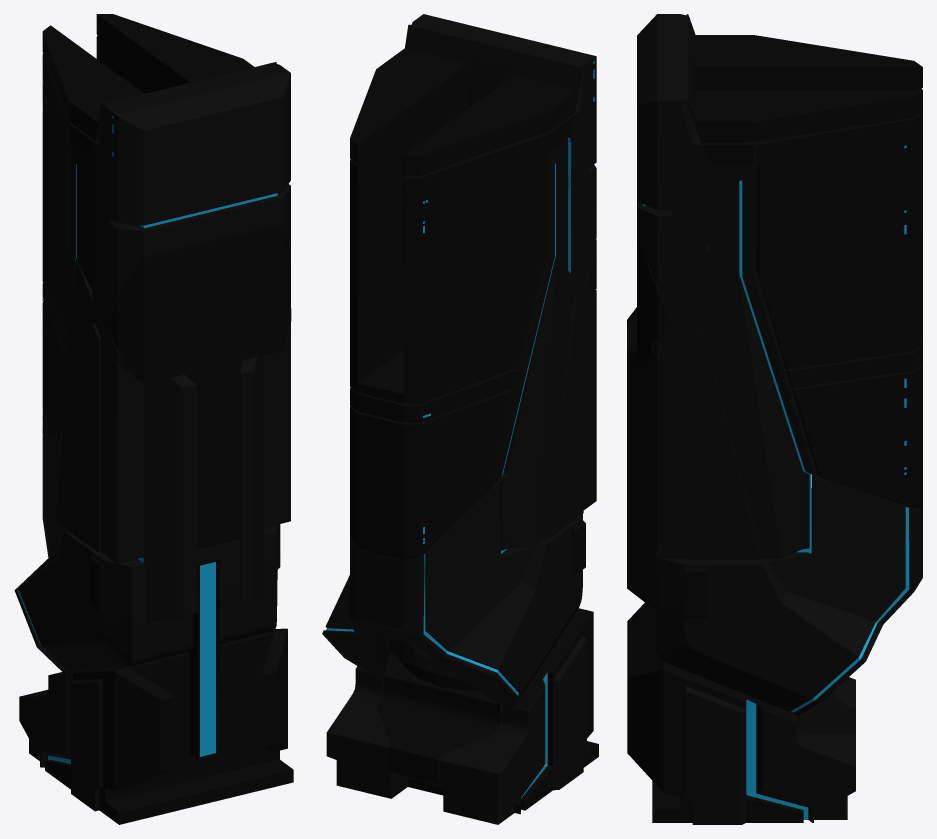
The model's file is building2.obj.
3 views of the same model, side by side, from view 1: azimuth 30°, elevation 25°; view 2: azimuth 150°, elevation 25°; view 3: azimuth 270°, elevation 25° (orthographic). The views are drawn at different scales.
Visible parts, largest first — view 1: Tower_02.smd; view 2: Tower_02.smd; view 3: Tower_02.smd.
Boxes of the visible parts, bbox=[...] form: Tower_02.smd: bbox=[14, 14, 293, 824]; Tower_02.smd: bbox=[322, 14, 598, 824]; Tower_02.smd: bbox=[627, 14, 922, 824].
Size of the model in its own units: 25.01 by 92.48 by 34.35.
